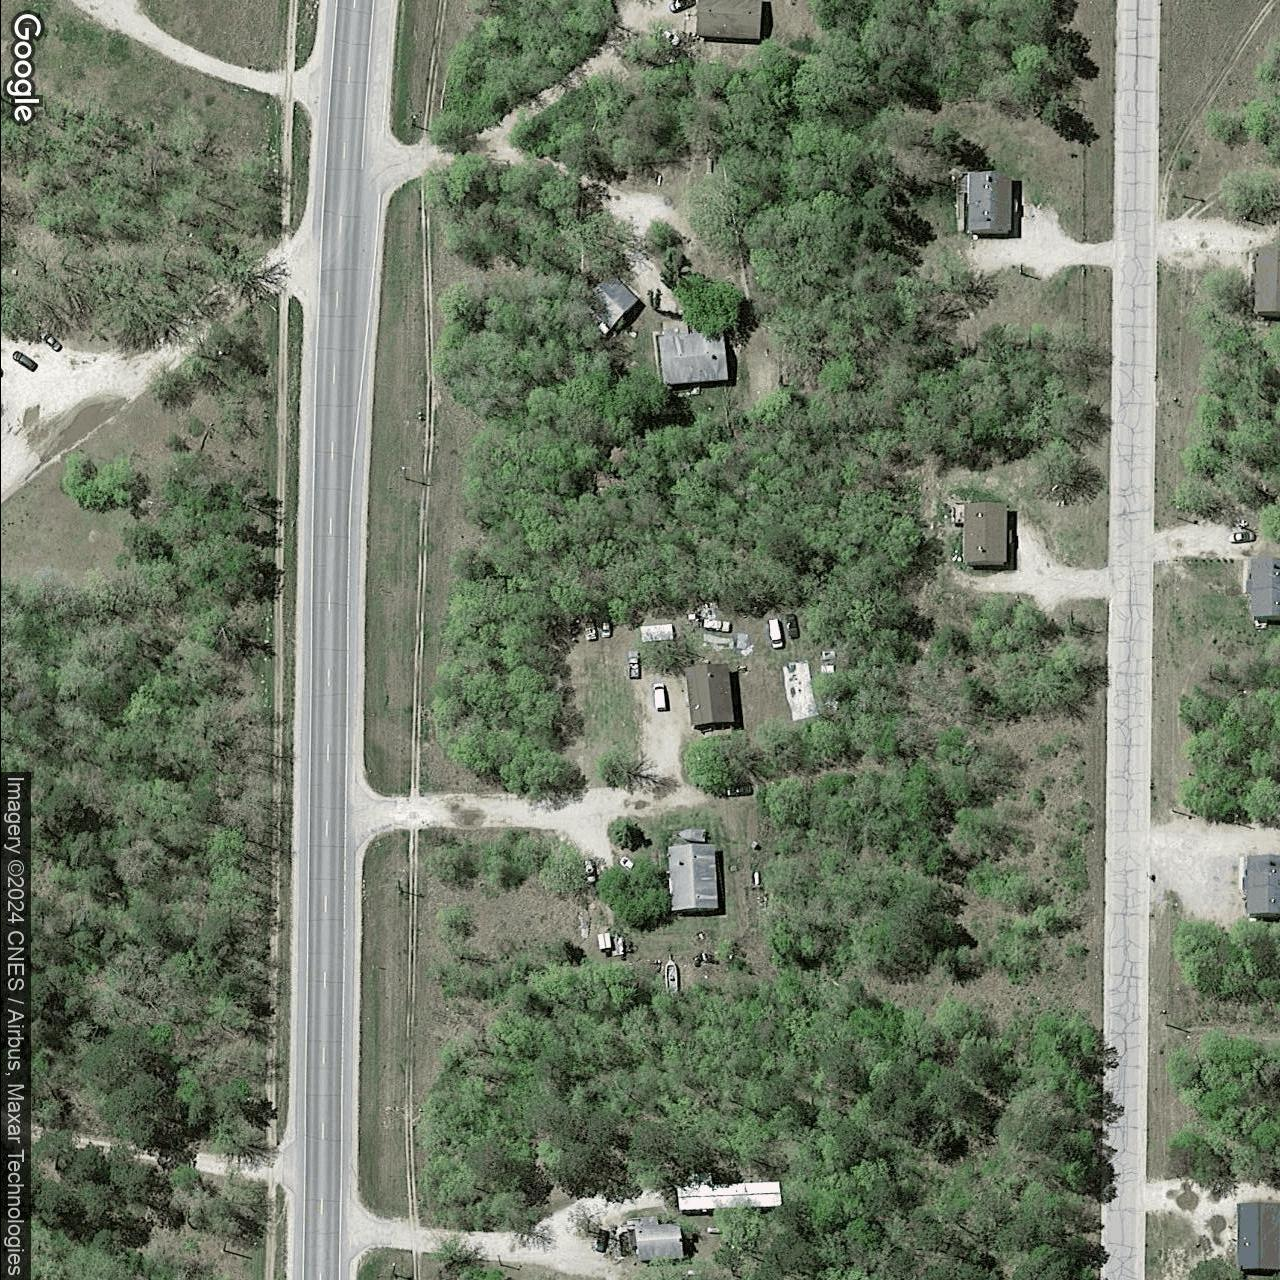Garage: (576, 267, 641, 336), (632, 1221, 685, 1261)
House: (655, 316, 729, 387), (666, 843, 720, 913), (683, 662, 736, 728), (961, 499, 1008, 568), (1237, 1200, 1279, 1272), (967, 170, 1013, 234), (695, 0, 763, 41), (1245, 853, 1279, 918), (1248, 557, 1280, 620), (1253, 246, 1279, 320)
Propane: (704, 1225, 723, 1237), (750, 871, 761, 886)
Trailer: (674, 1179, 783, 1212)
